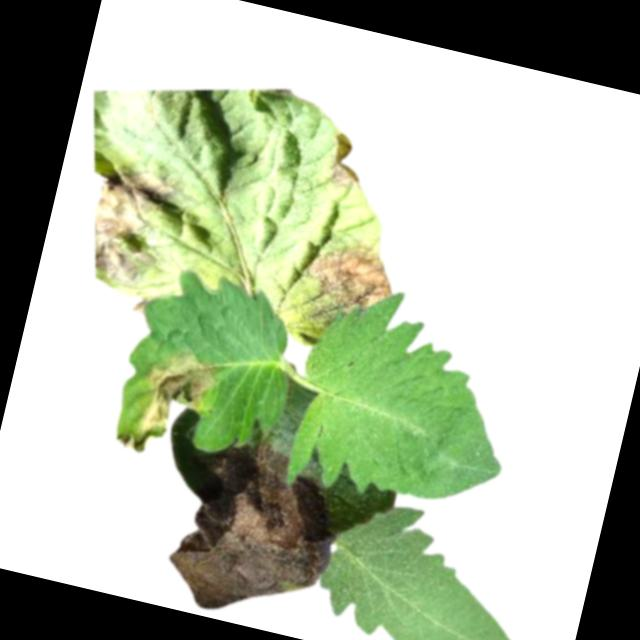Late_blight: (159, 427, 350, 633), (76, 158, 190, 300), (112, 336, 224, 470), (300, 230, 406, 328), (325, 134, 366, 193), (131, 296, 149, 316)
